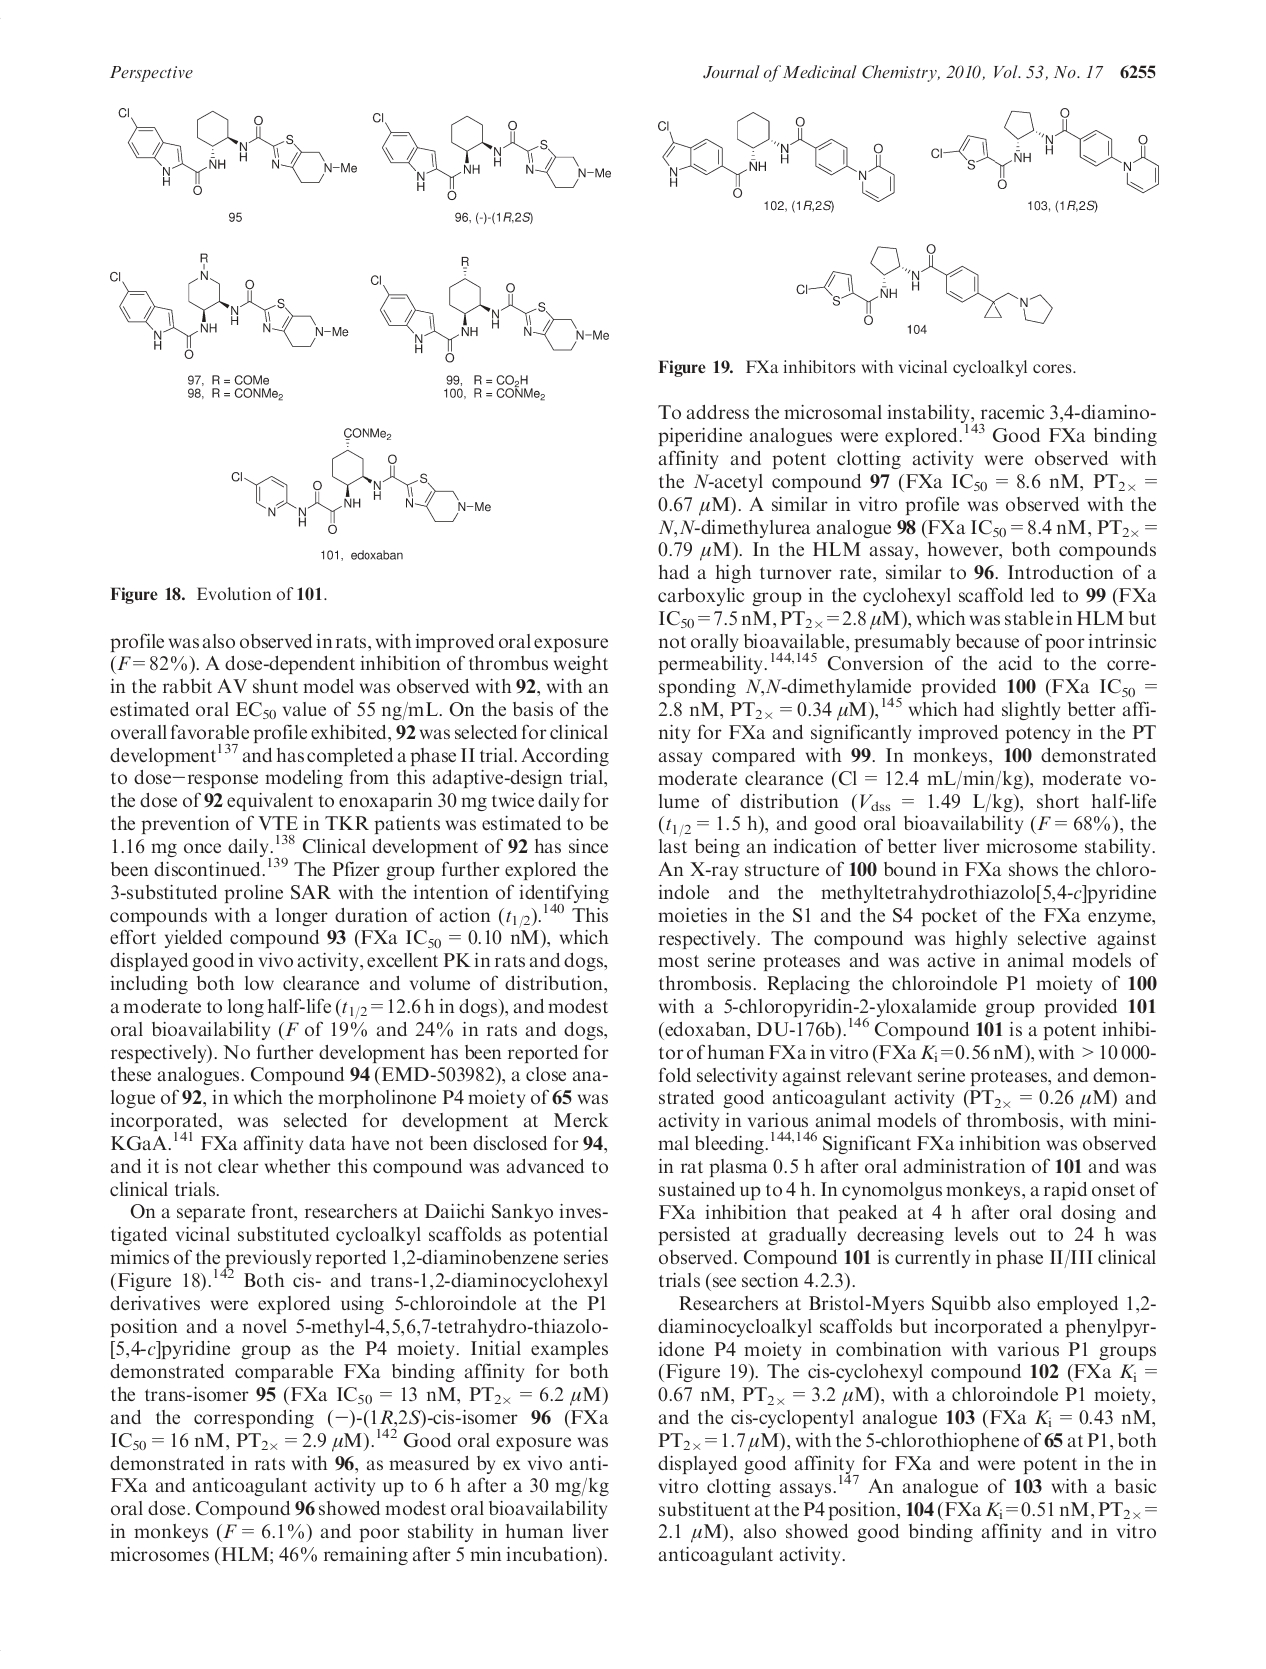exist_molecular: (363, 243, 637, 367), (218, 426, 496, 541), (794, 234, 1056, 339), (97, 250, 351, 358), (649, 105, 904, 207), (108, 98, 360, 195), (370, 108, 618, 198), (932, 101, 1168, 195)
